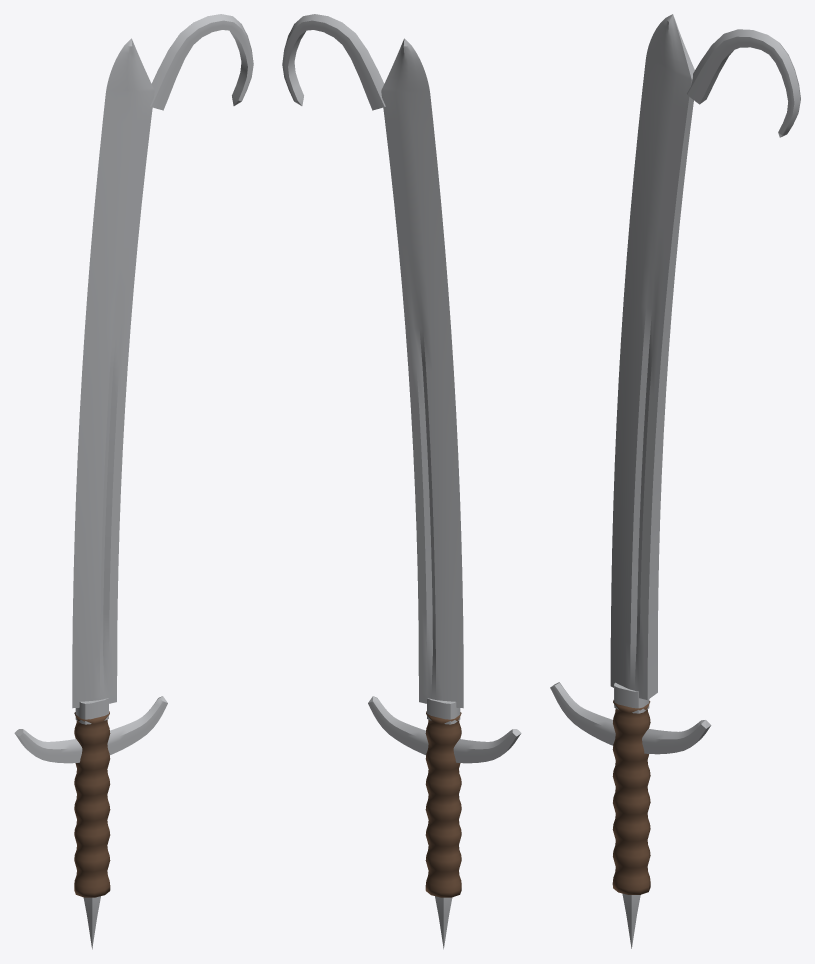
File: double-chicken-saber.glb
3 views of the same model, side by side, from view 1: azimuth 30°, elevation 25°; view 2: azimuth 150°, elevation 25°; view 3: azimuth 330°, elevation 25° (orthographic). The views are drawn at different scales.
Visible parts, largest first — view 1: double-chicken-saber; view 2: double-chicken-saber; view 3: double-chicken-saber.
Boxes of the visible parts, x1,y1,x2,y2 form: double-chicken-saber: (14, 14, 253, 949); double-chicken-saber: (282, 14, 521, 949); double-chicken-saber: (550, 14, 800, 948).
Size of the model in its own units: 0.5017 by 1.84 by 0.0569.
